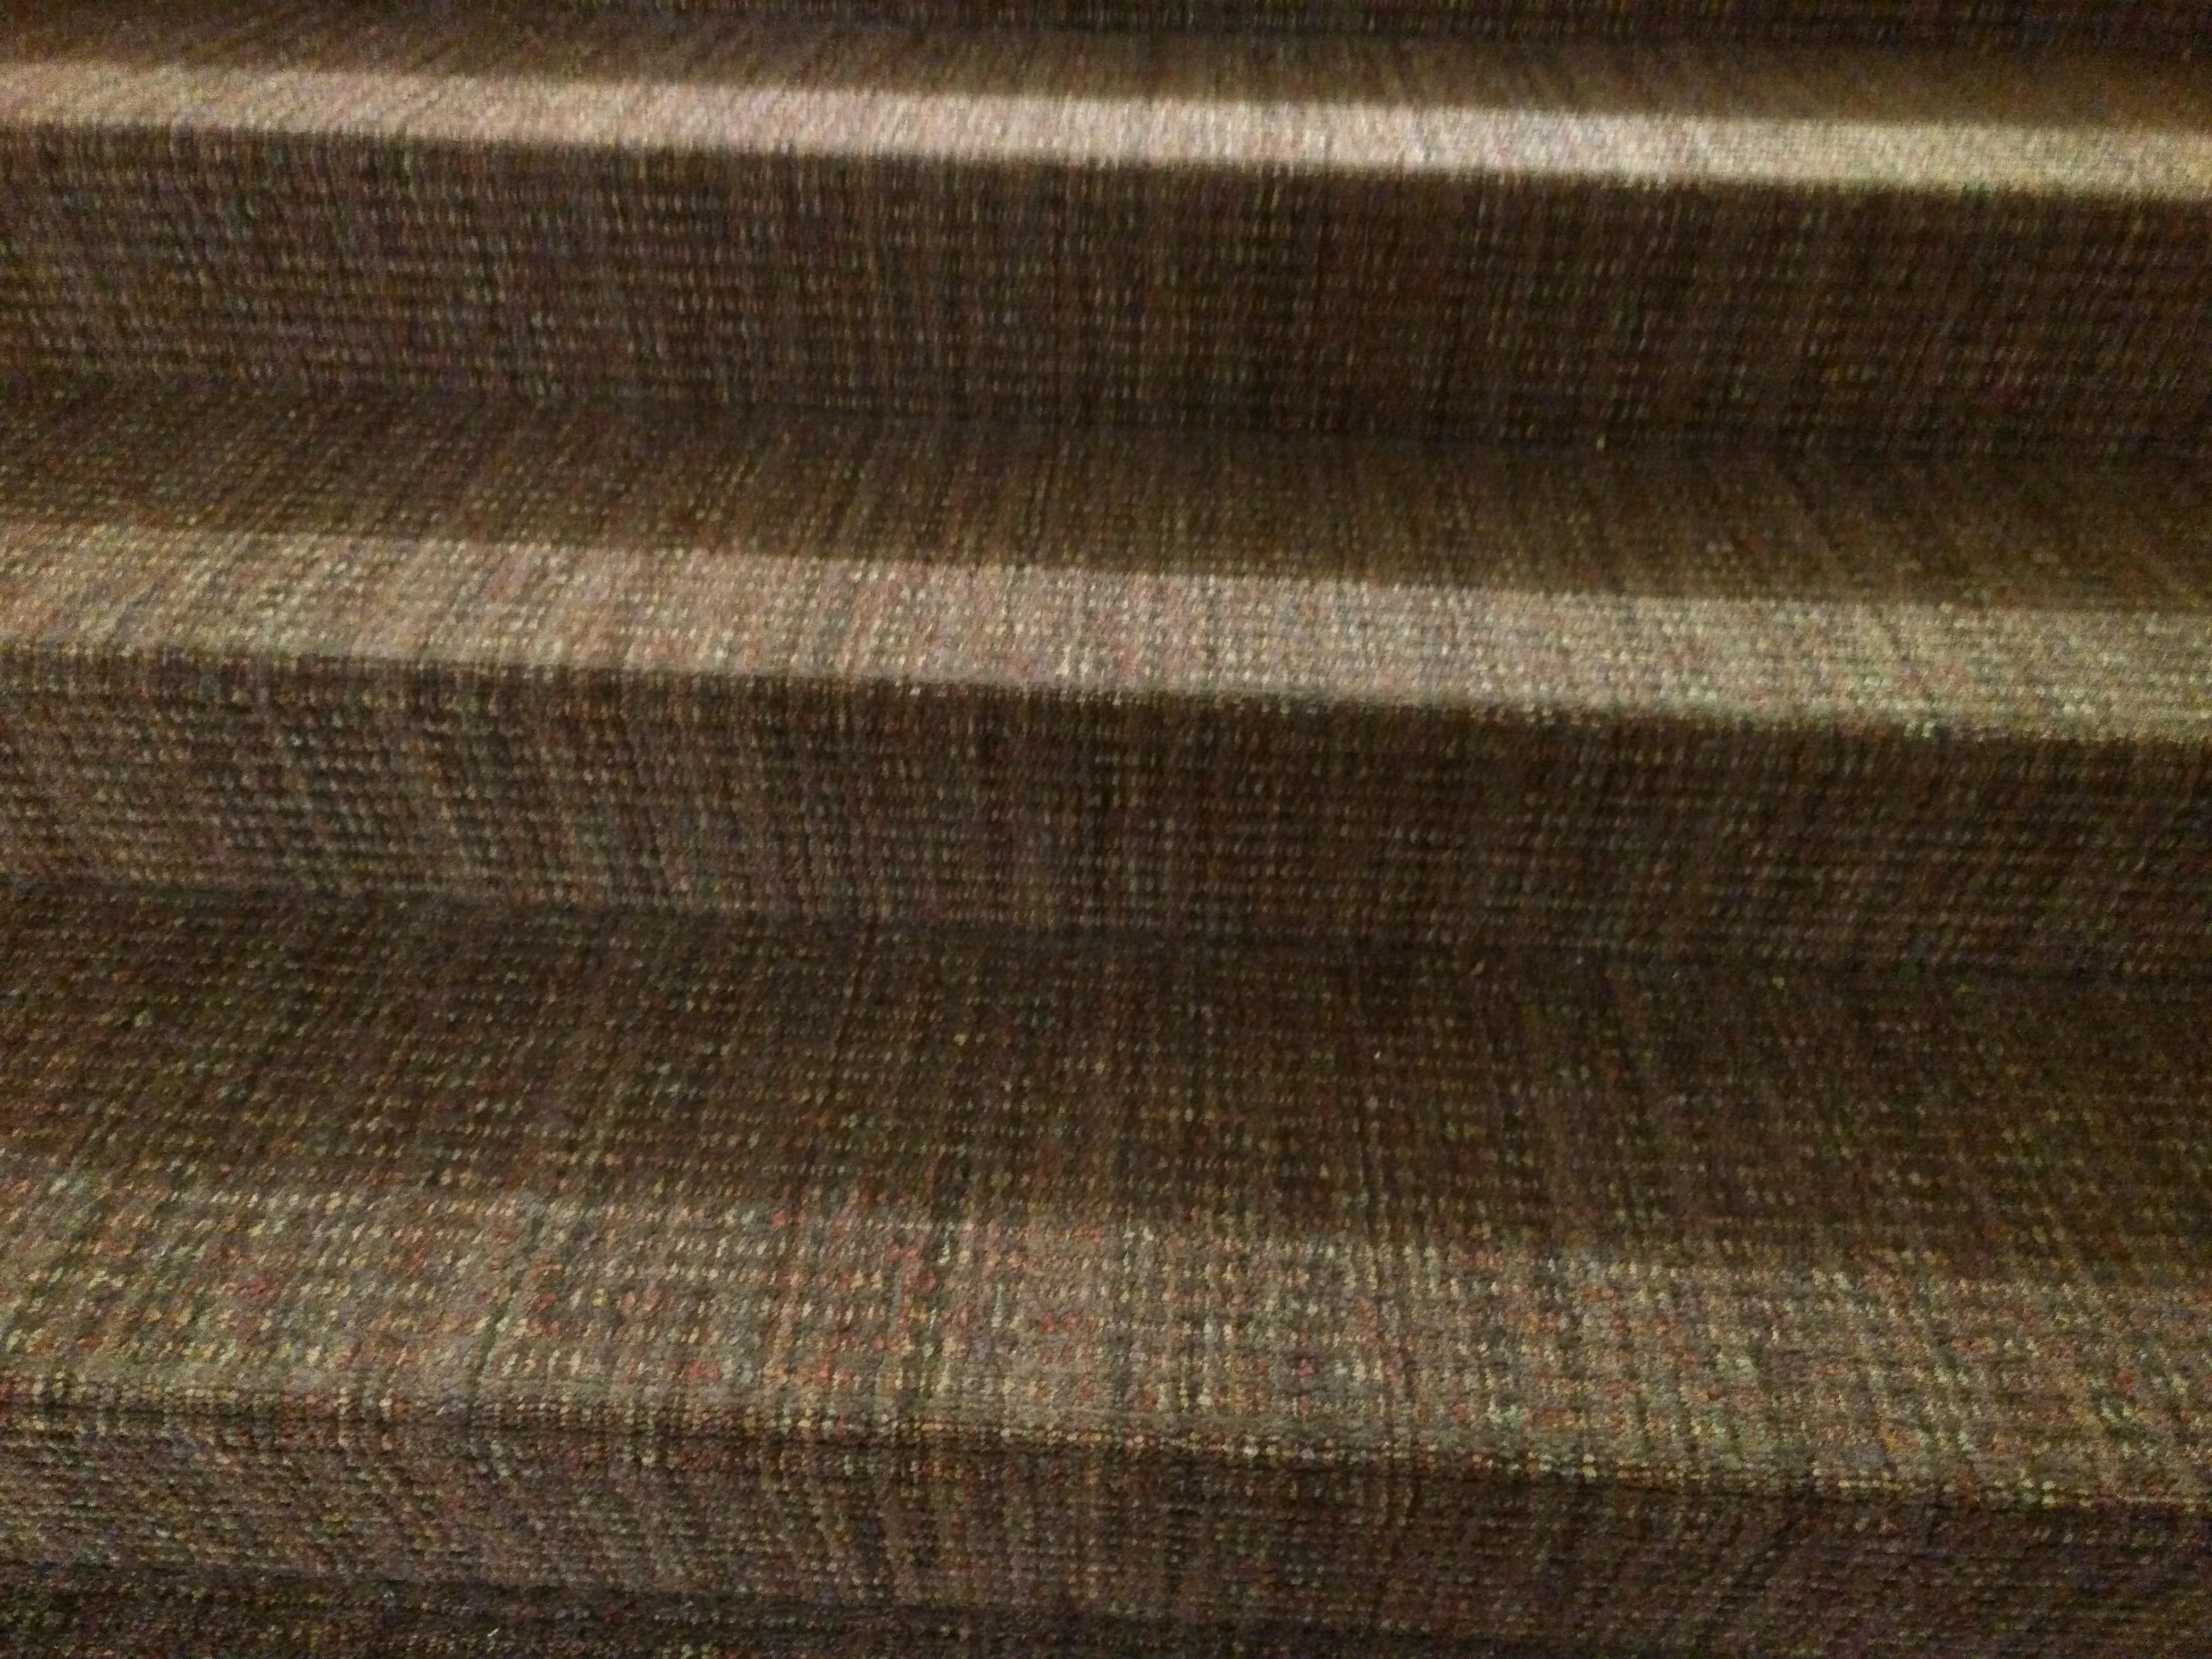stairs_up: (16, 66, 2207, 1551)
